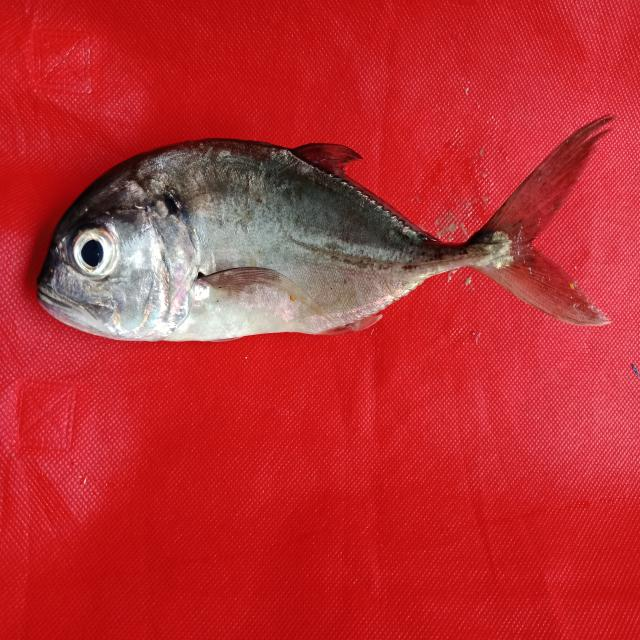ikan: (26, 102, 628, 354)
